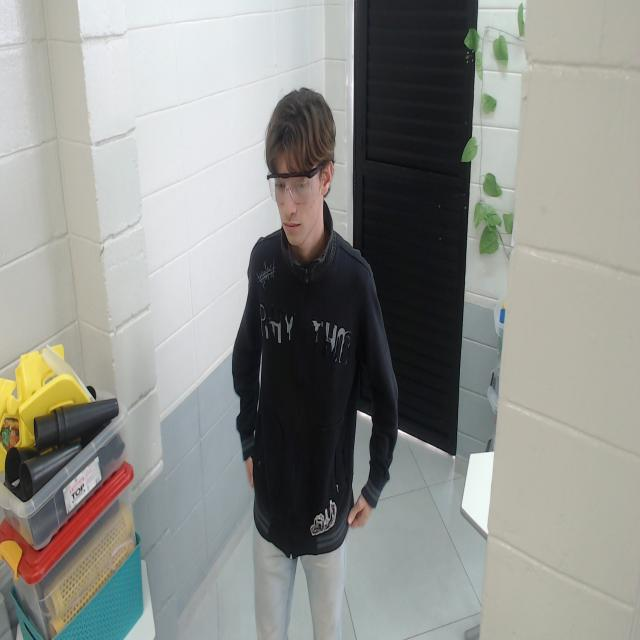oculos-epi: (267, 163, 323, 206)
